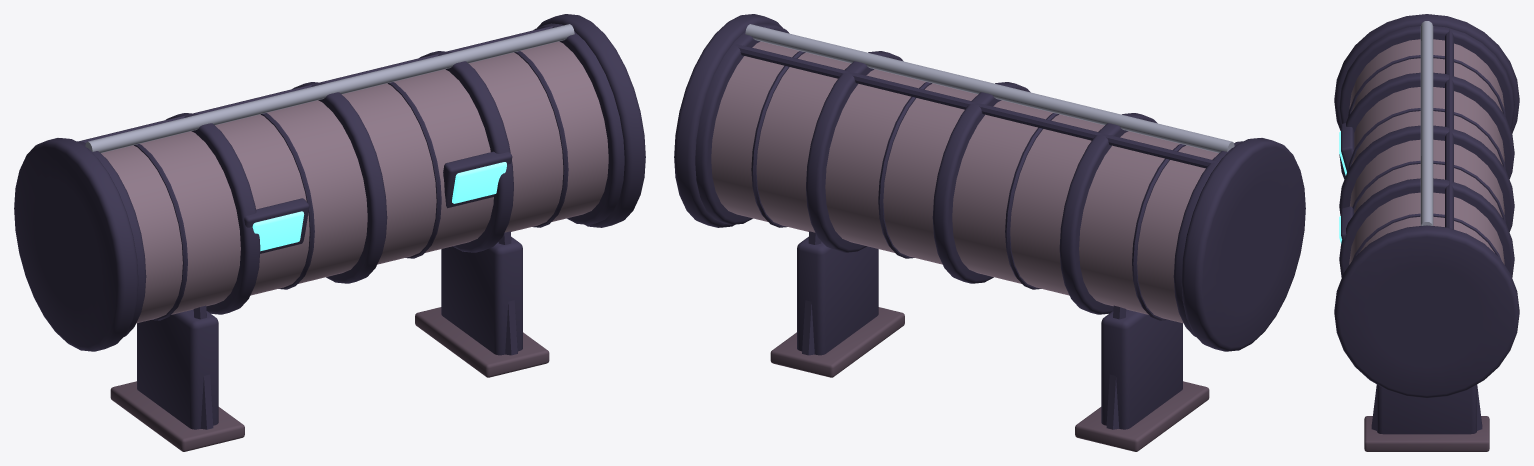
Rendered from corridor.glb.
3 renders of one model, left to right at view 1: azimuth 30°, elevation 25°; view 2: azimuth 150°, elevation 25°; view 3: azimuth 270°, elevation 25°, orthographic. The views are drawn at different scales.
Parts seen in each view (by area): view 1: corridor; view 2: corridor; view 3: corridor.
Part boxes in pixels (x1,y1,x2,y2): corridor: [14, 14, 645, 451]; corridor: [674, 14, 1305, 451]; corridor: [1334, 14, 1519, 451].
Bounding box in the file's own units: 4.16 × 2.25 × 1.48.
